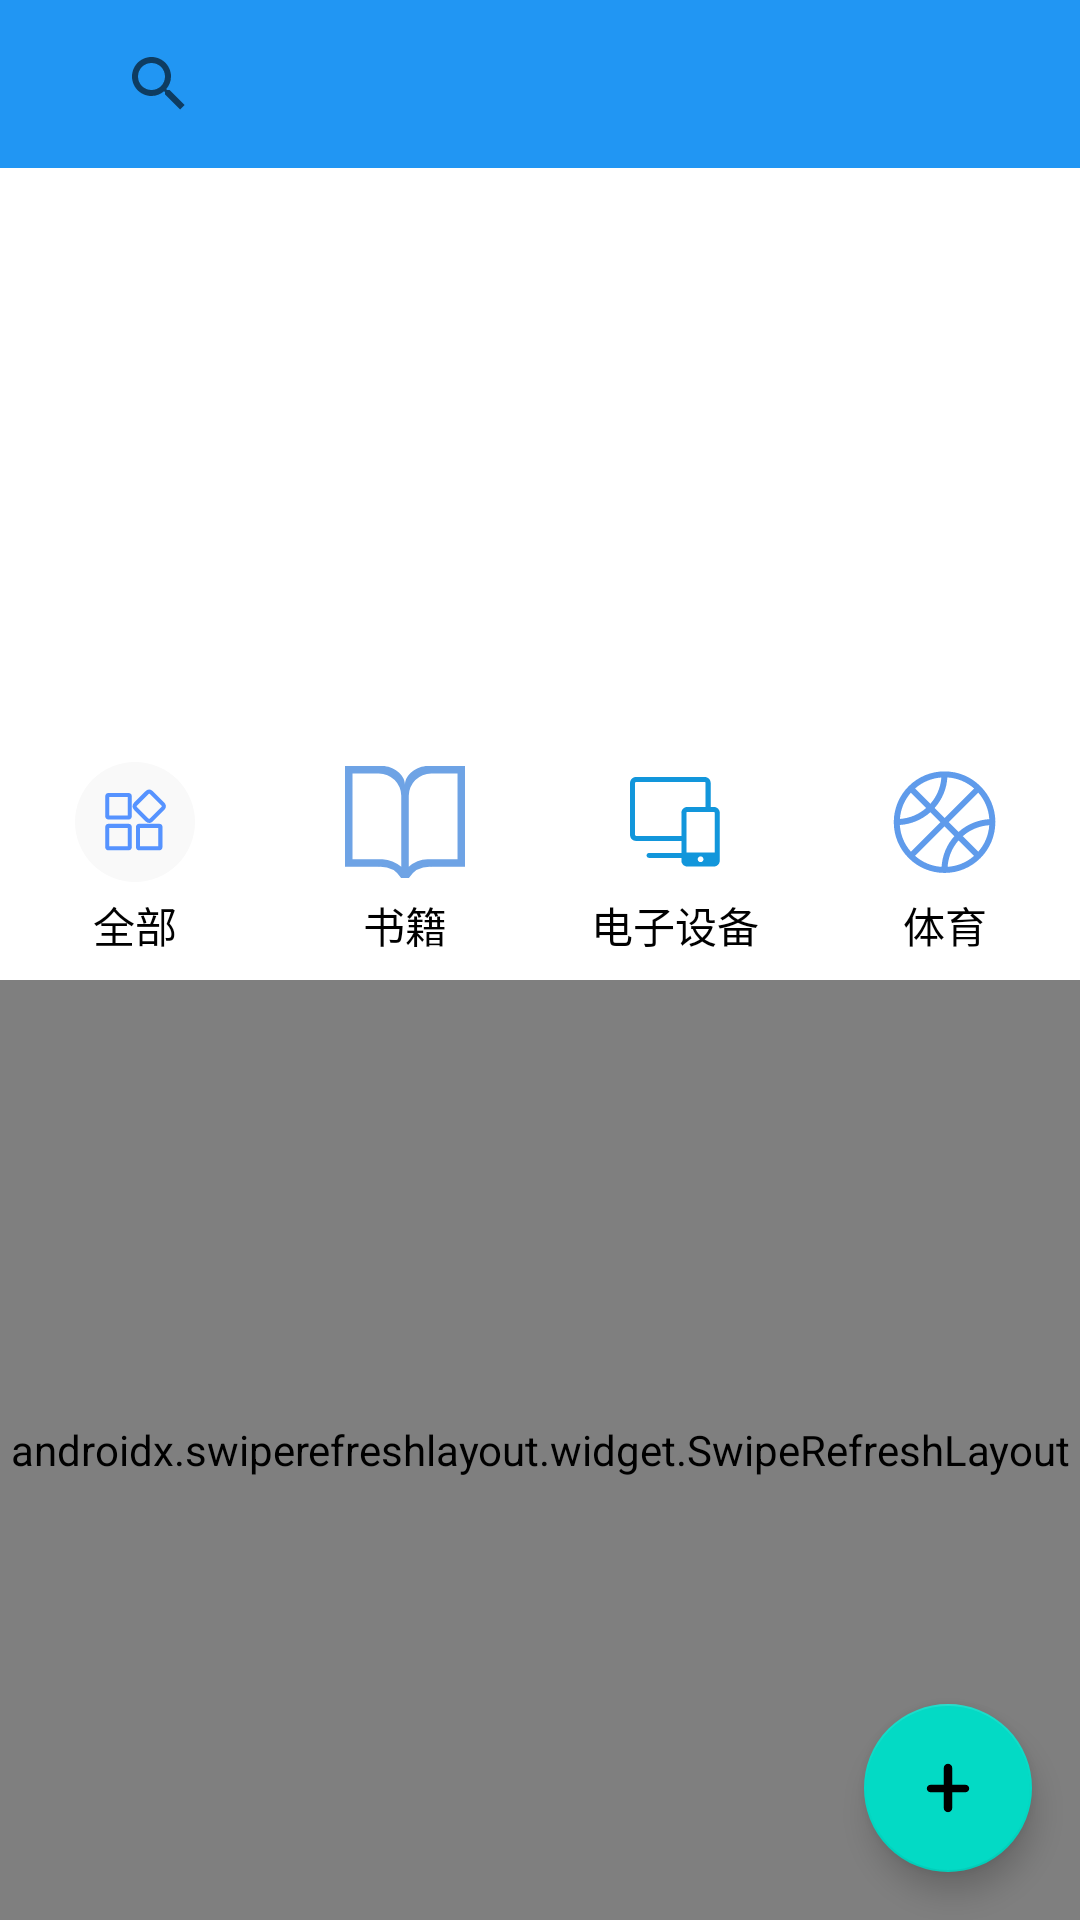

Icons on this 1080px x 1920px Android screen, each with its box as (x1, y1, x2, y2):
view all: (105, 789, 166, 851)
添加: (864, 1704, 1032, 1872)
